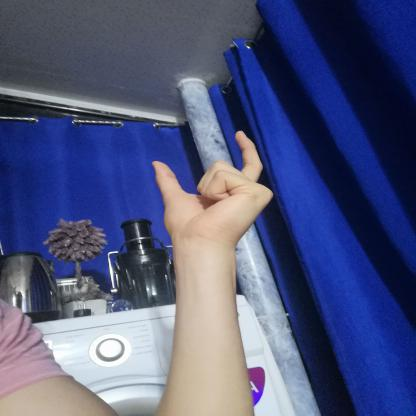NOON: (138, 120, 286, 262)
